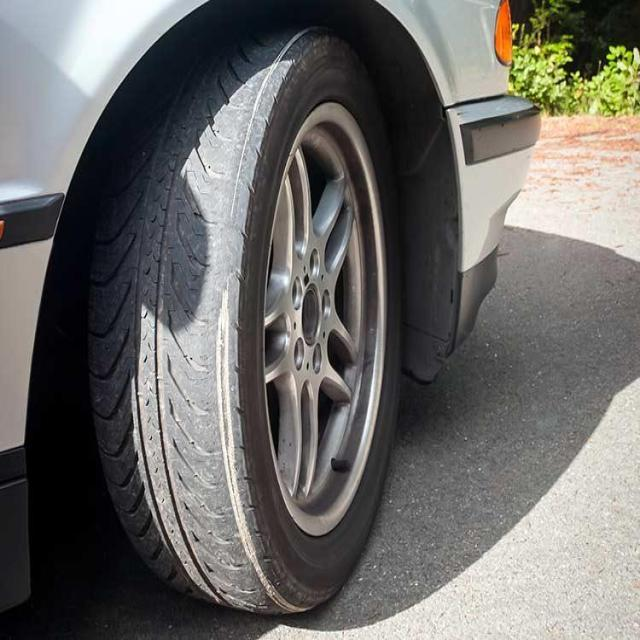Flat spots: (165, 110, 248, 598)
